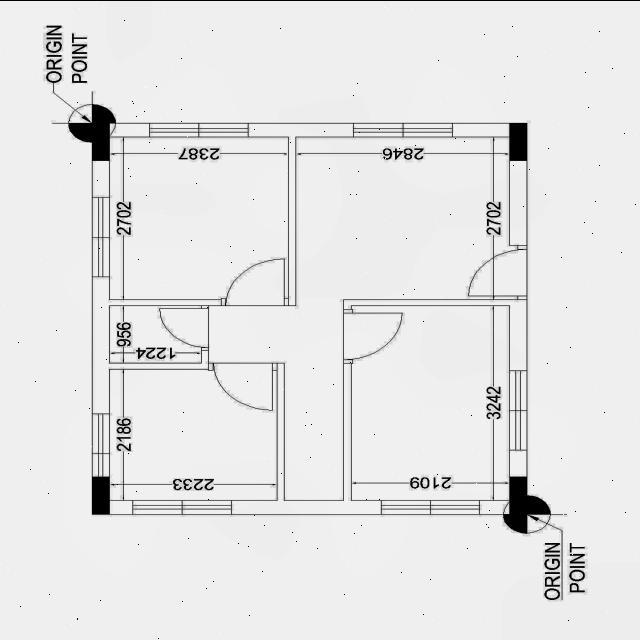Column: (92, 122, 110, 160), (510, 122, 528, 160), (510, 476, 528, 514), (92, 476, 110, 514)
Door: (340, 302, 406, 366), (466, 242, 532, 302), (218, 254, 290, 308), (206, 360, 280, 412), (157, 302, 211, 358)
Window: (129, 496, 235, 516), (147, 120, 251, 138), (378, 498, 482, 516), (350, 121, 456, 137), (508, 368, 528, 452), (91, 195, 111, 278), (90, 412, 110, 477)
